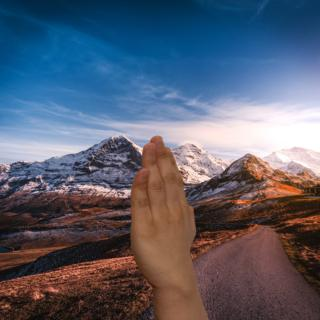RIGHT: (117, 128, 206, 294)
